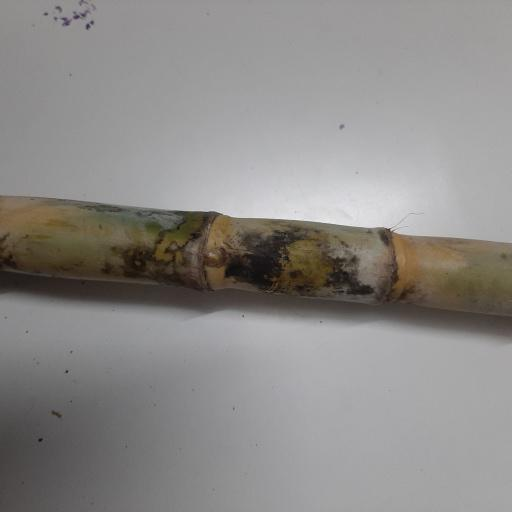Bud: (202, 248, 227, 268)
